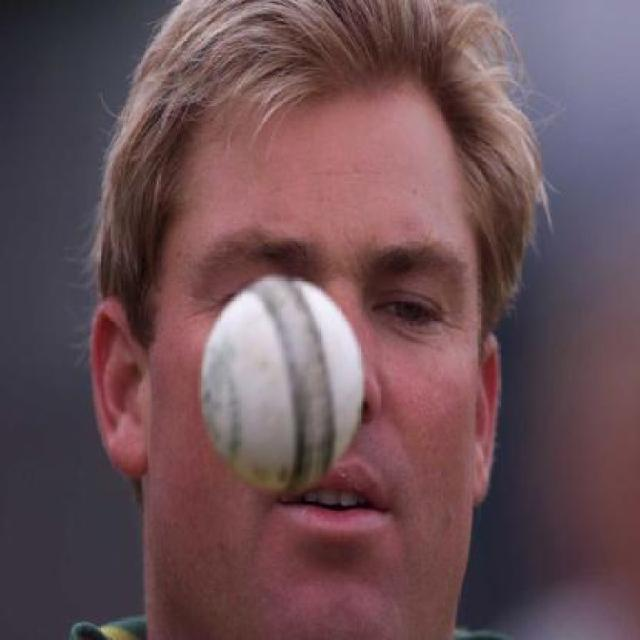ball: (181, 259, 395, 524)
